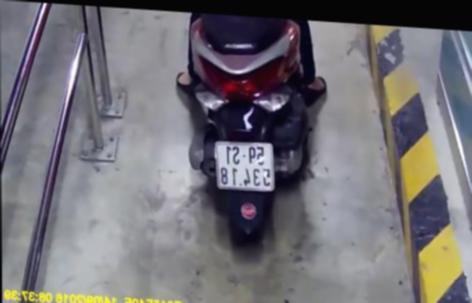License_Plate: (212, 135, 279, 198)
